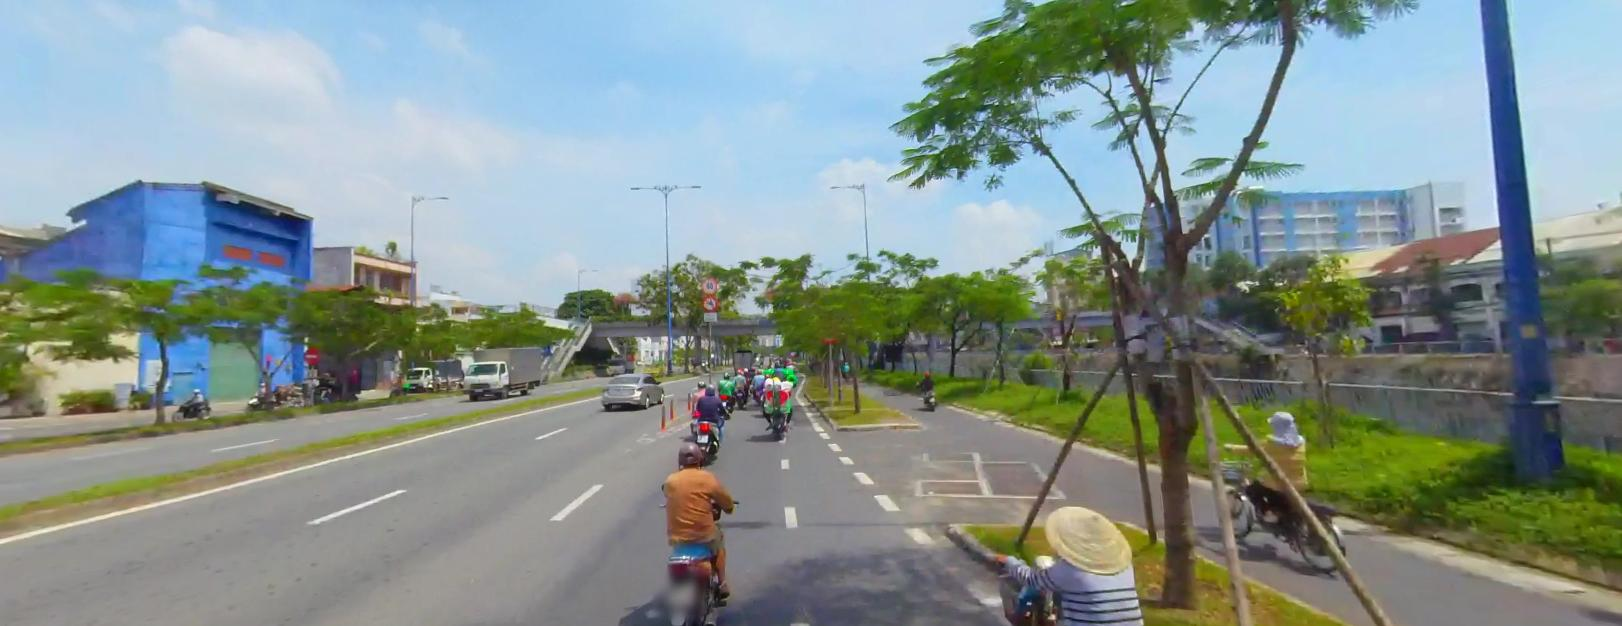Cam con lai: (701, 295, 717, 310)
Cam nguoc chieu: (303, 345, 320, 362)
Gioi han toc do: (702, 276, 717, 292)
